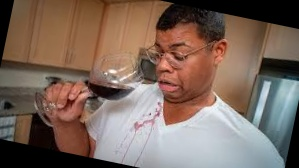wine: (115, 134, 132, 164), (124, 114, 147, 136), (135, 137, 150, 167), (142, 102, 161, 119), (146, 117, 157, 137)
